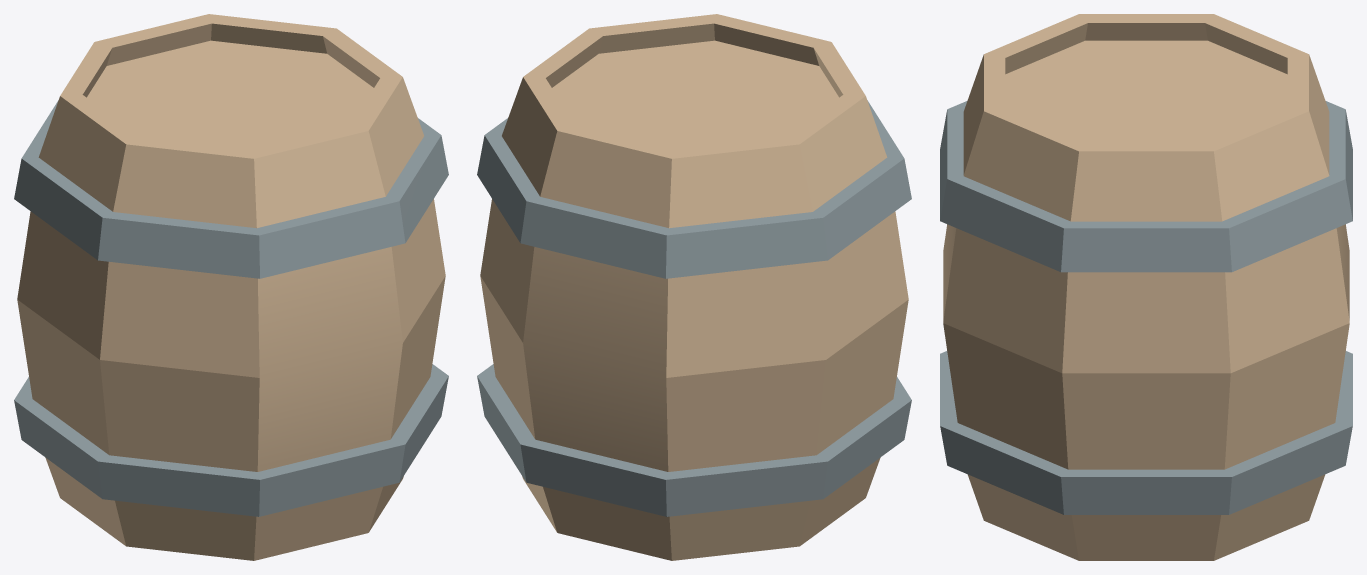
The model's file is Barrel.fbx.
The picture shows the model from 3 angles, left to right: view 1: azimuth 30°, elevation 25°; view 2: azimuth 150°, elevation 25°; view 3: azimuth 270°, elevation 25°; orthographic projection.
Parts seen in each view (by area): view 1: default; view 2: default; view 3: default.
Part boxes in pixels (<box>): default: <box>14,14,448,560</box>; default: <box>477,14,911,560</box>; default: <box>940,14,1352,560</box>.
Bounding box in the file's own units: 91.35 × 100 × 91.35.
